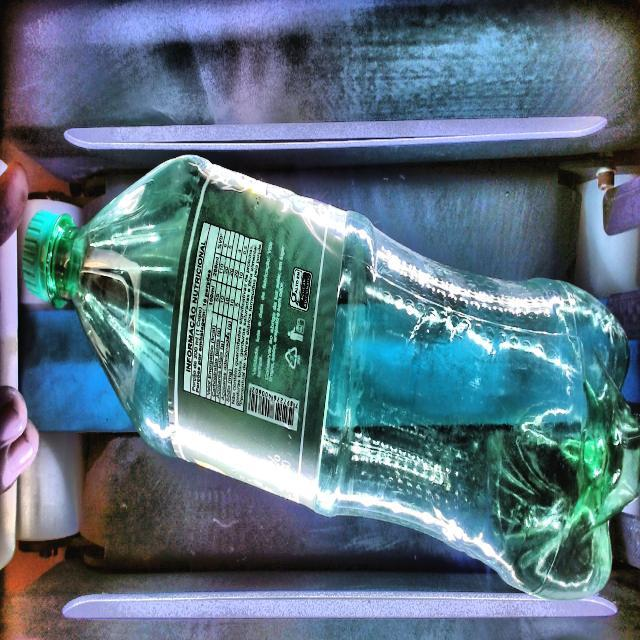bottom: (326, 214, 640, 598)
code: (248, 384, 299, 431)
label: (170, 169, 345, 509)
neck: (22, 156, 211, 456)
